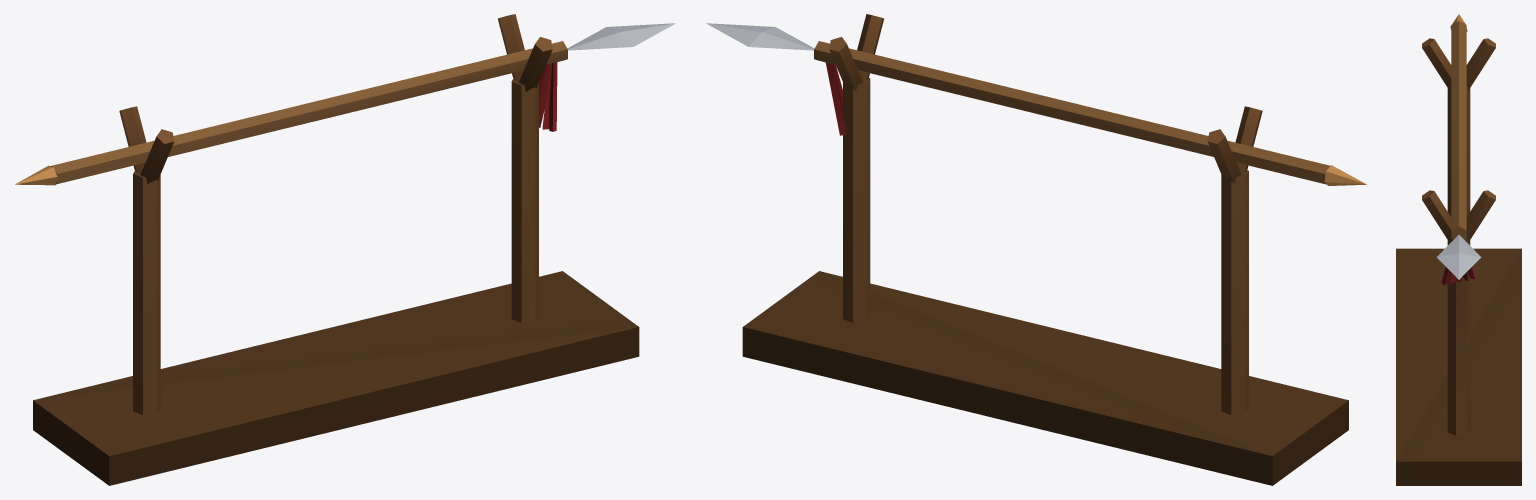
3 views of the same model, side by side, from view 1: azimuth 30°, elevation 25°; view 2: azimuth 150°, elevation 25°; view 3: azimuth 270°, elevation 25° (orthographic). The views are drawn at different scales.
Parts seen in each view (by area): view 1: base; view 2: base; view 3: base.
Boxes of the visible parts, box(x1,y1,x2,y2) form: base: box(15, 14, 675, 485); base: box(706, 14, 1366, 485); base: box(1396, 14, 1521, 485).
Size of the model in its own units: 0.7 by 0.3246 by 0.14.
